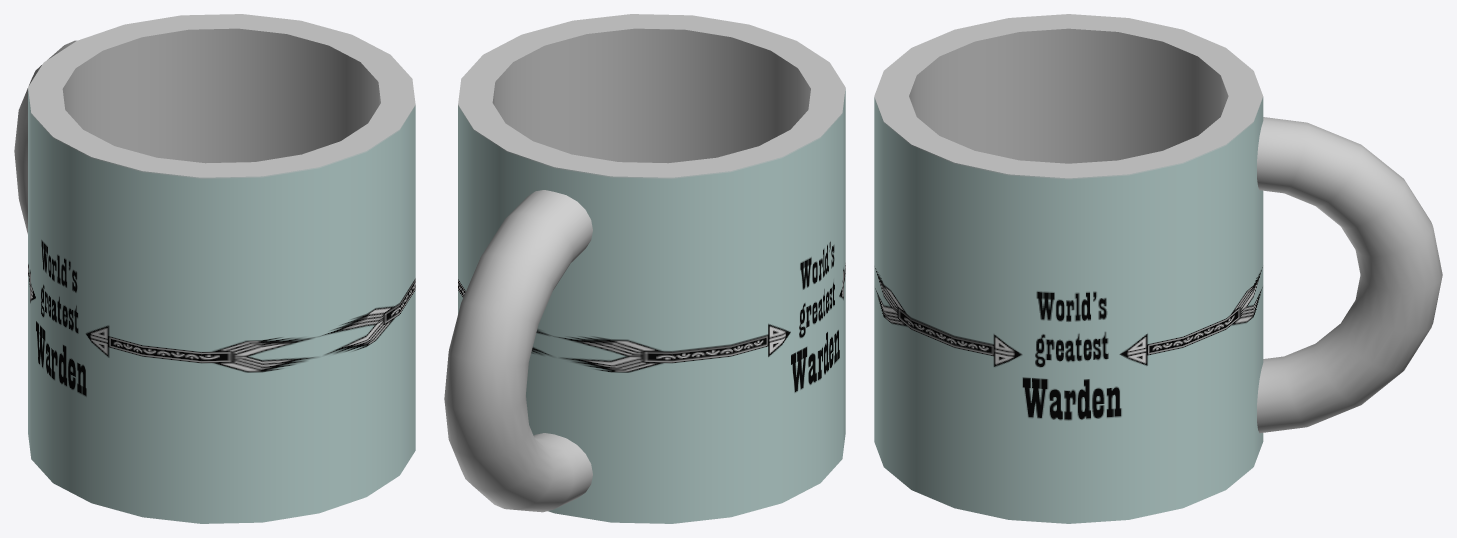
The model's file is Mug.fbx.
The picture shows the model from 3 angles, left to right: view 1: azimuth 30°, elevation 25°; view 2: azimuth 150°, elevation 25°; view 3: azimuth 270°, elevation 25°; orthographic projection.
Visible parts, largest first — view 1: polySurface1; view 2: polySurface1; view 3: polySurface1.
Boxes of the visible parts, x1,y1,x2,y2 form: polySurface1: (14, 14, 415, 523); polySurface1: (444, 14, 845, 523); polySurface1: (874, 14, 1442, 523).
Bounding box in the file's own units: 4.09 × 4.01 × 5.98.
